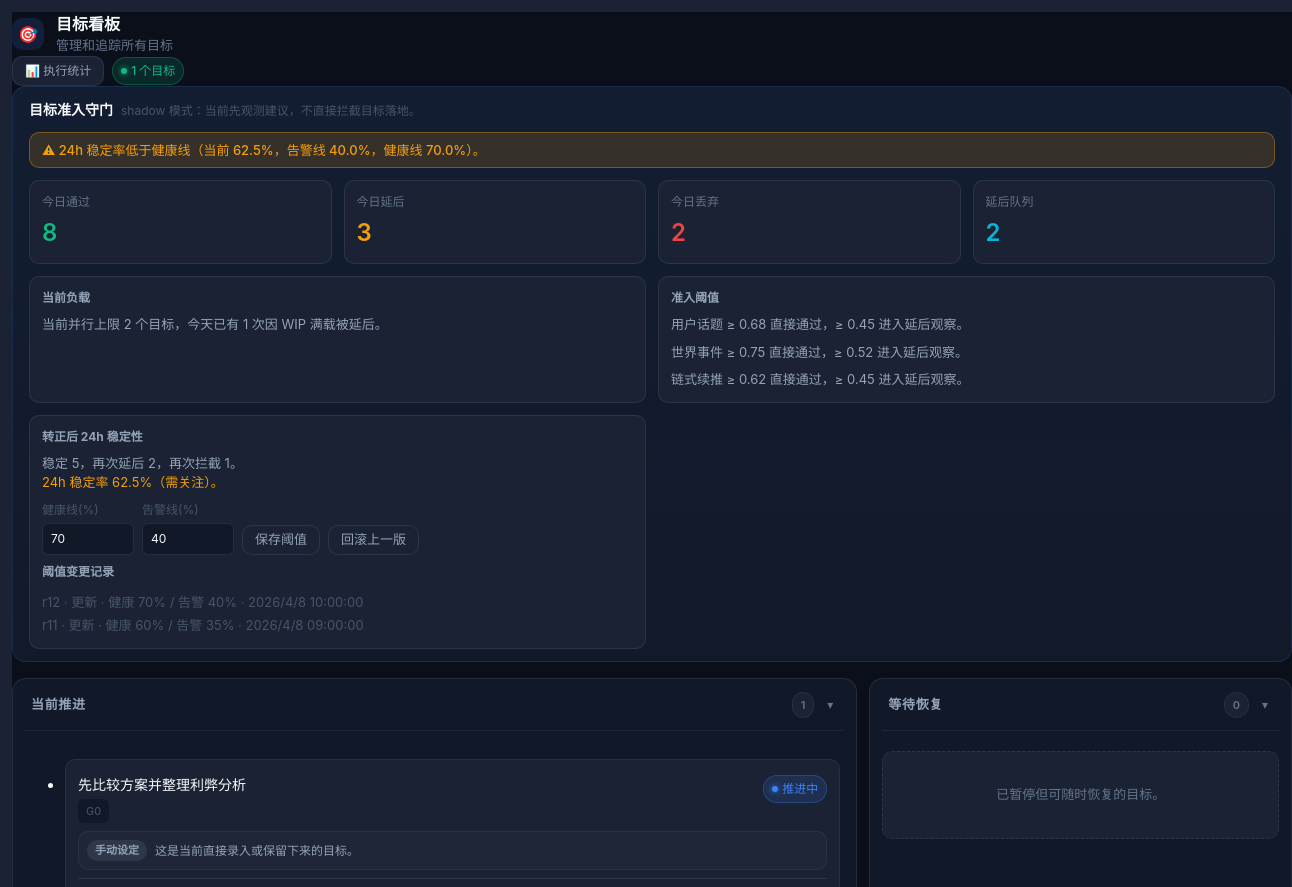
Test: can rollback thresholds to previous revision
Expected: the text "目标准入守门" is shown, [29,98,113,120]
Click the button "回滚上一版".
click(374, 540)  # box [328,525,419,555]
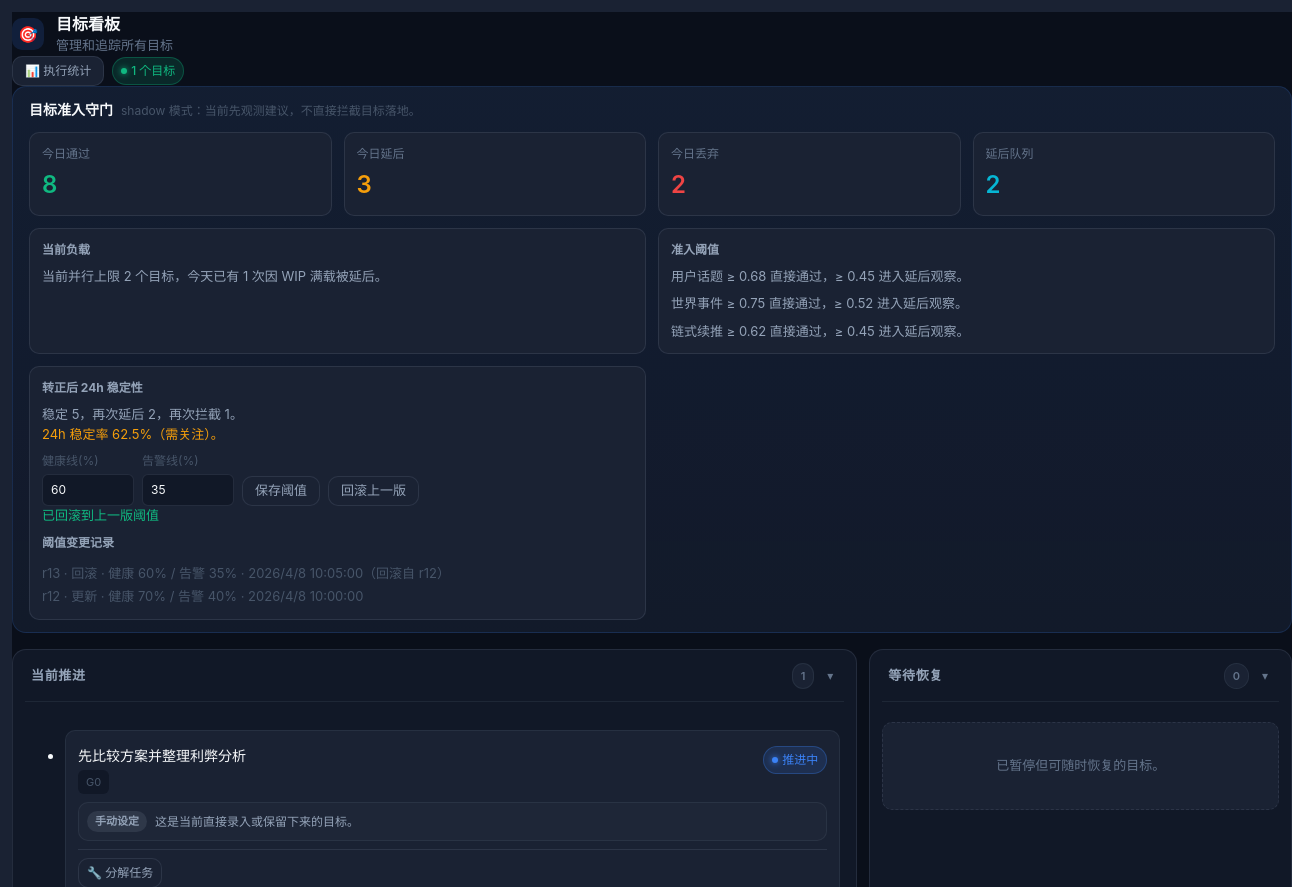
Expected: the text "已回滚到上一版阈值" is shown, [42,507,159,523]
Expected: the number field labelled "健康线(%)" holds "60", [42,474,134,506]
Expected: the number field labelled "告警线(%)" holds "35", [142,474,234,506]
